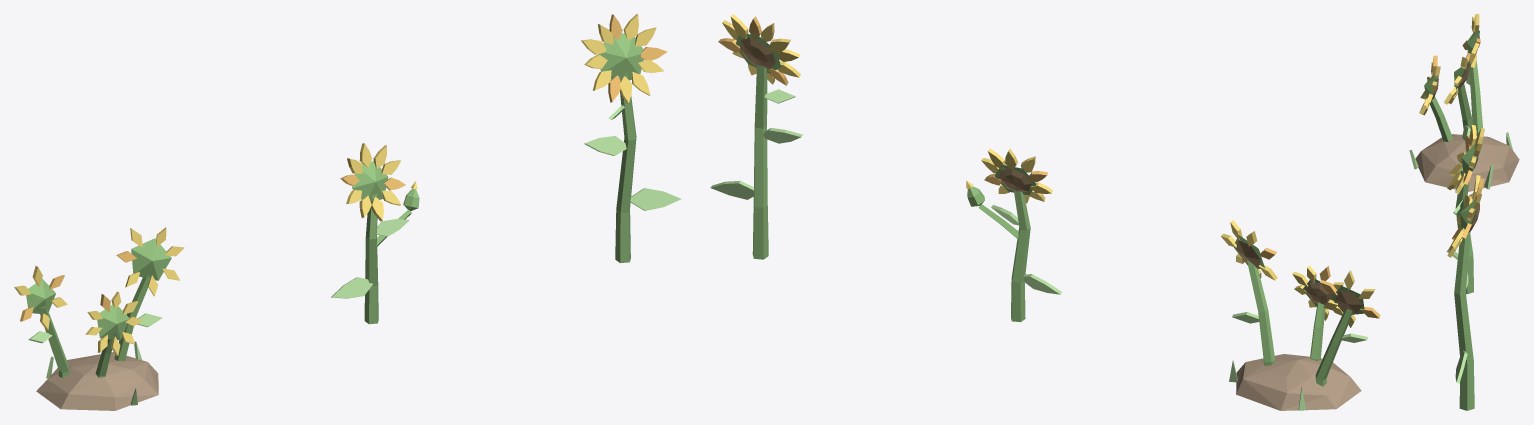
File: Sunflower.fbx
The picture shows the model from 3 angles, left to right: view 1: azimuth 30°, elevation 25°; view 2: azimuth 150°, elevation 25°; view 3: azimuth 270°, elevation 25°; orthographic projection. The views are drawn at different scales.
Visible parts, largest first — view 1: Sunflower.C_Mound, Sunflower.C_Stems, Sunflower.A_Stem, Sunflower.B_Stem, Sunflower.C_PetalsYellow, Sunflower.A_PetalsYellow, Sunflower.B_PetalsYellow, Sunflower.A_Leaves, Sunflower.B_Leaves, Sunflower.A_PetalsOrange, Sunflower.C_Leaves; view 2: Sunflower.C_Mound, Sunflower.C_Stems, Sunflower.A_Stem, Sunflower.B_Stem, Sunflower.C_PetalsYellow, Sunflower.A_PetalsYellow, Sunflower.A_Leaves, Sunflower.C_Discs, Sunflower.B_PetalsYellow, Sunflower.A_Disc, Sunflower.C_Leaves, Sunflower.B_Leaves; view 3: Sunflower.C_Mound, Sunflower.A_Stem, Sunflower.C_Stems, Sunflower.C_PetalsYellow, Sunflower.B_Stem, Sunflower.B_PetalsYellow, Sunflower.A_PetalsYellow, Sunflower.C_Leaves, Sunflower.A_Leaves, Sunflower.A_PetalsOrange, Sunflower.C_PetalsOrange, Sunflower.C_Discs (+1 smaller).
Boxes of the visible parts, <box> form: Sunflower.C_Mound: <box>36,352,158,410</box>; Sunflower.C_Stems: <box>26,238,171,377</box>; Sunflower.A_Stem: <box>598,33,643,263</box>; Sunflower.B_Stem: <box>352,161,419,324</box>; Sunflower.C_PetalsYellow: <box>14,227,184,355</box>; Sunflower.A_PetalsYellow: <box>581,14,663,103</box>; Sunflower.B_PetalsYellow: <box>346,143,417,221</box>; Sunflower.A_Leaves: <box>584,105,681,210</box>; Sunflower.B_Leaves: <box>331,219,409,298</box>; Sunflower.A_PetalsOrange: <box>608,14,667,102</box>; Sunflower.C_Leaves: <box>28,313,162,405</box>; Sunflower.C_Mound: <box>1236,354,1361,410</box>; Sunflower.C_Stems: <box>1233,235,1364,386</box>; Sunflower.A_Stem: <box>736,34,780,259</box>; Sunflower.B_Stem: <box>967,164,1036,322</box>; Sunflower.C_PetalsYellow: <box>1221,220,1375,327</box>; Sunflower.A_PetalsYellow: <box>722,14,800,84</box>; Sunflower.A_Leaves: <box>710,89,802,199</box>; Sunflower.C_Discs: <box>1236,240,1362,313</box>; Sunflower.B_PetalsYellow: <box>966,148,1052,203</box>; Sunflower.A_Disc: <box>740,37,775,68</box>; Sunflower.C_Leaves: <box>1229,312,1367,410</box>; Sunflower.B_Leaves: <box>991,205,1061,294</box>; Sunflower.C_Mound: <box>1415,134,1519,191</box>; Sunflower.A_Stem: <box>1454,200,1476,410</box>; Sunflower.C_Stems: <box>1424,30,1482,151</box>; Sunflower.C_PetalsYellow: <box>1419,14,1479,115</box>; Sunflower.B_Stem: <box>1455,144,1477,294</box>; Sunflower.B_PetalsYellow: <box>1447,125,1484,197</box>; Sunflower.A_PetalsYellow: <box>1447,175,1482,257</box>; Sunflower.C_Leaves: <box>1409,72,1512,189</box>; Sunflower.A_Leaves: <box>1446,249,1468,383</box>; Sunflower.A_PetalsOrange: <box>1452,178,1484,239</box>; Sunflower.C_PetalsOrange: <box>1432,38,1480,75</box>; Sunflower.C_Discs: <box>1431,35,1479,100</box>.
Size of the model in its own units: 13.07 by 4.57 by 2.
